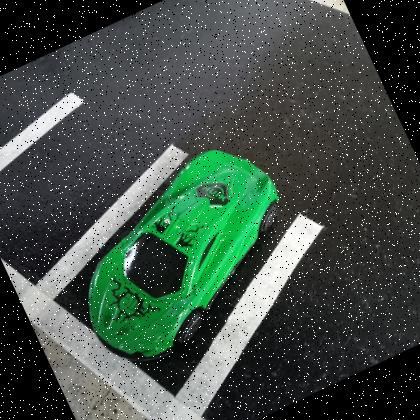Car: (87, 150, 280, 362)
